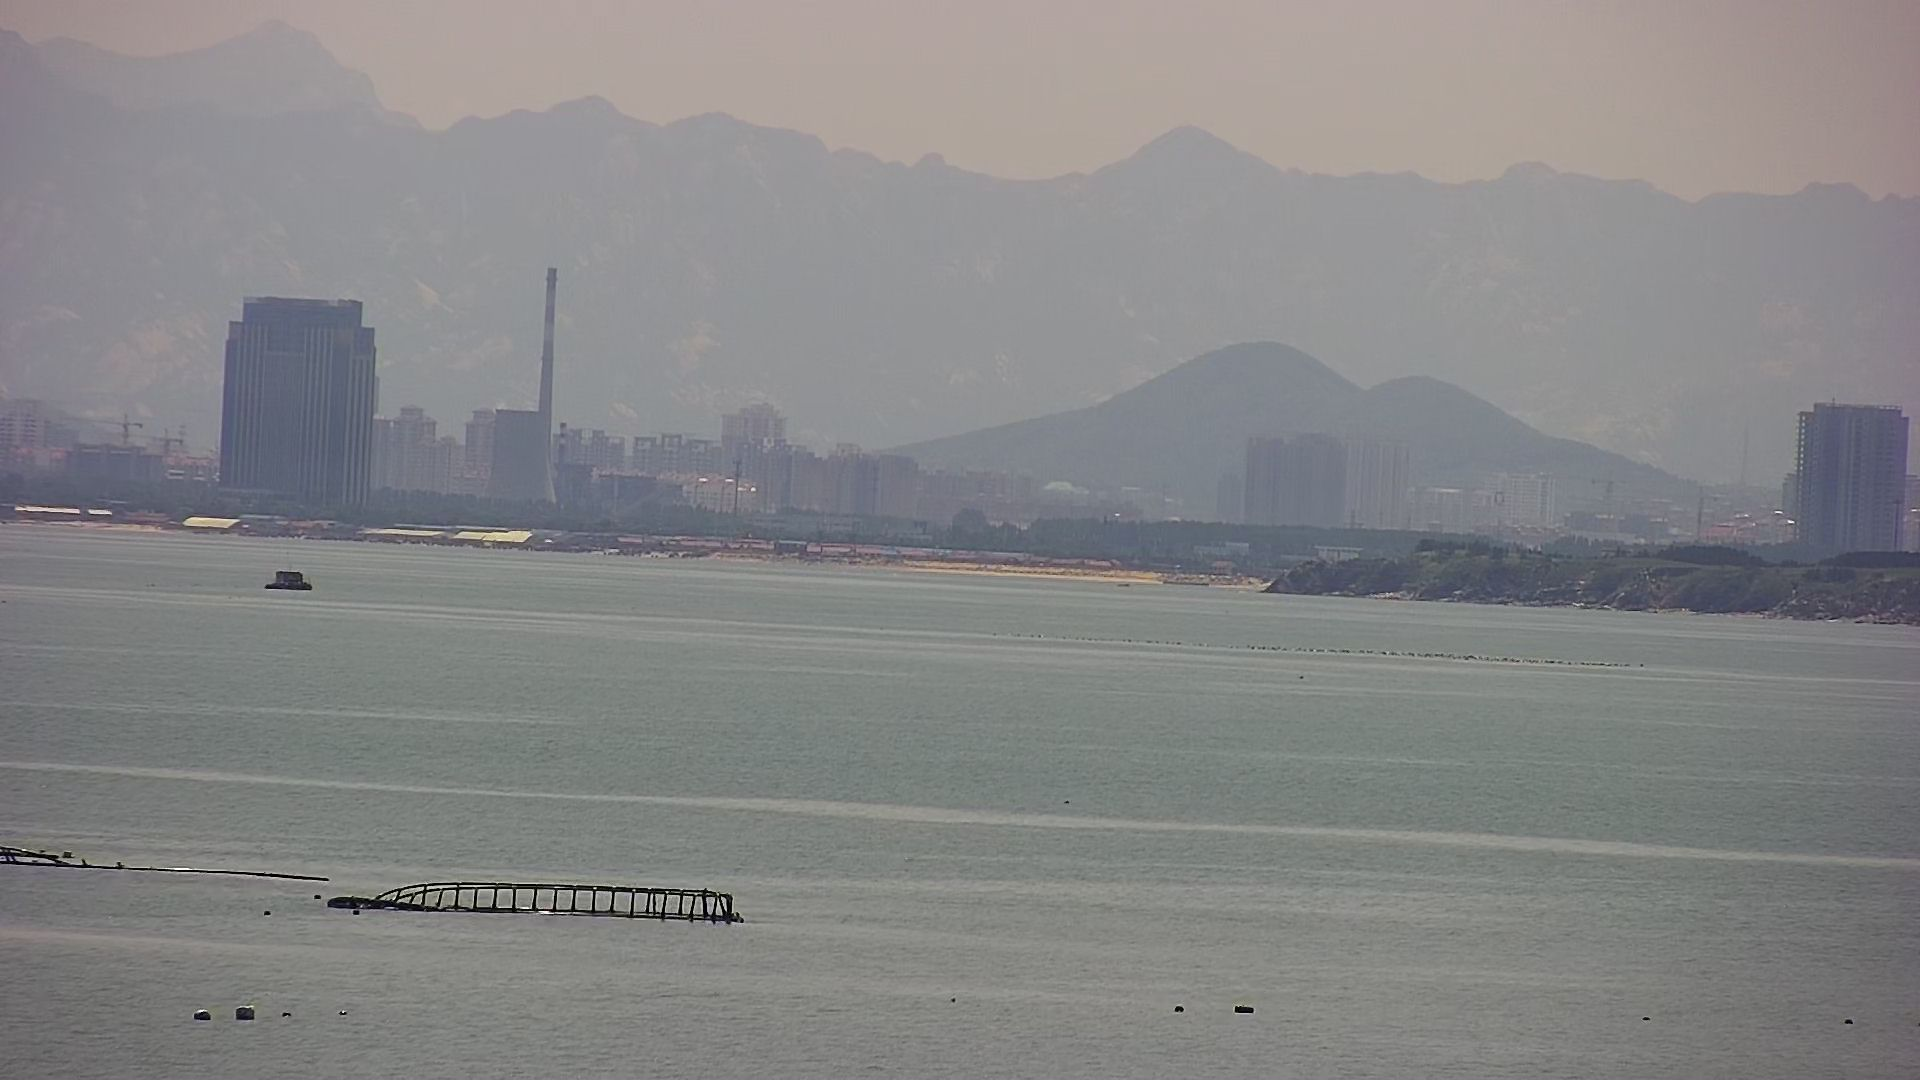platform: (323, 865, 756, 935), (261, 560, 324, 593)
rubbish: (187, 993, 284, 1026)
